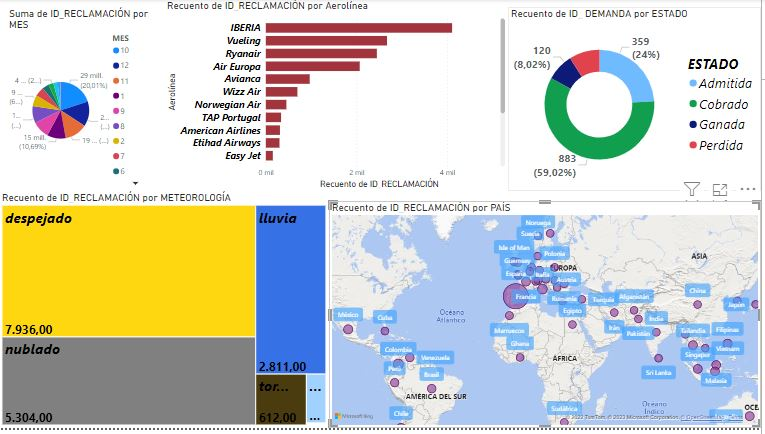

The dashboard page shown, as its layout file describes it:
{"tool":"powerbi","page":{"name":"DASHBOARD","canvas":[1280,720],"ordinal":5},"visuals":[{"type":"pieChart","fields":{"Category":["reclamaciones_2023-02-09 (1).MES"],"Y":["Sum(reclamaciones_2023-02-09 (1).ID_RECLAMACIÓN)"]},"box":[11.8,13.4,258.7,309.1],"z":0},{"type":"donutChart","fields":{"Y":["Count(demandas_2023-02-09 (2).ID_ DEMANDA)"],"Series":["demandas_2023-02-09 (2).ESTADO"]},"box":[855,13.4,425,309.1],"z":2},{"type":"clusteredBarChart","fields":{"Category":["codigos_IATA.Aerolínea"],"Y":["CountNonNull(reclamaciones_2023-02-09 (1).ID_RECLAMACIÓN)"]},"box":[277.2,0,577.8,322.5],"z":3},{"type":"treemap","fields":{"Values":["CountNonNull(reclamaciones_2023-02-09 (1).ID_RECLAMACIÓN)"],"Group":["reclamaciones_2023-02-09 (1).METEOROLOGÍA"]},"box":[0,322.5,554.3,398.1],"z":4},{"type":"map","fields":{"Size":["CountNonNull(reclamaciones_2023-02-09 (1).ID_RECLAMACIÓN)"],"Category":["prefijos.PAÍS"]},"box":[554.3,339.3,725.7,381.3],"z":5}]}

Visuals, with their boxes in screenshot pixels (x1, y1, x2, y2), scaled from the page's 1280x720 canvas onto the 765x434 screenshot:
pieChart - reclamaciones_2023-02-09 (1).MES x Sum(reclamaciones_2023-02-09 (1).ID_RECLAMACIÓN): BBox(7, 8, 162, 194)
donutChart - Count(demandas_2023-02-09 (2).ID_ DEMANDA) x demandas_2023-02-09 (2).ESTADO: BBox(511, 8, 764, 194)
clusteredBarChart - codigos_IATA.Aerolínea x CountNonNull(reclamaciones_2023-02-09 (1).ID_RECLAMACIÓN): BBox(166, 0, 511, 194)
treemap - CountNonNull(reclamaciones_2023-02-09 (1).ID_RECLAMACIÓN) x reclamaciones_2023-02-09 (1).METEOROLOGÍA: BBox(0, 194, 331, 433)
map - CountNonNull(reclamaciones_2023-02-09 (1).ID_RECLAMACIÓN) x prefijos.PAÍS: BBox(331, 205, 764, 433)
